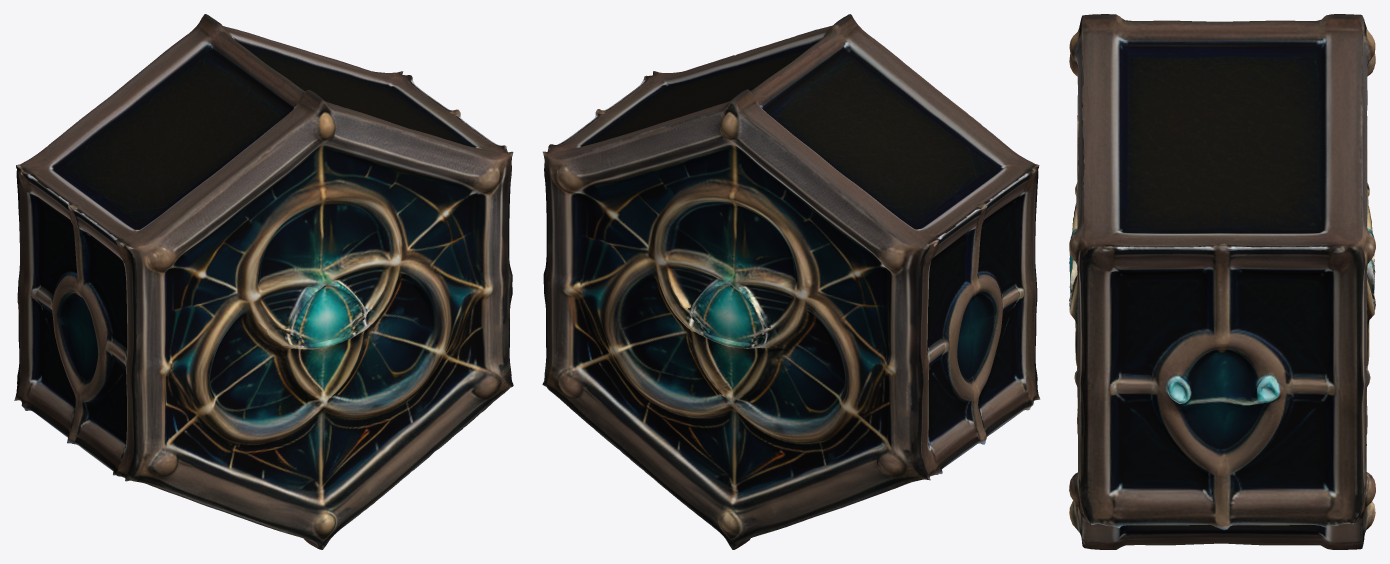
File: cover-multiview.glb
3 renders of one model, left to right at view 1: azimuth 30°, elevation 25°; view 2: azimuth 150°, elevation 25°; view 3: azimuth 270°, elevation 25°, orthographic. The views are drawn at different scales.
Visible parts, largest first — view 1: tmp2tpwizey.ply; view 2: tmp2tpwizey.ply; view 3: tmp2tpwizey.ply.
Boxes of the visible parts, <box> form: tmp2tpwizey.ply: <box>14,14,513,549</box>; tmp2tpwizey.ply: <box>542,14,1040,549</box>; tmp2tpwizey.ply: <box>1069,14,1375,549</box>.
Bounding box in the file's own units: 0.895 × 0.9872 × 0.5137.
Materials: 1 (1 with a texture image).
